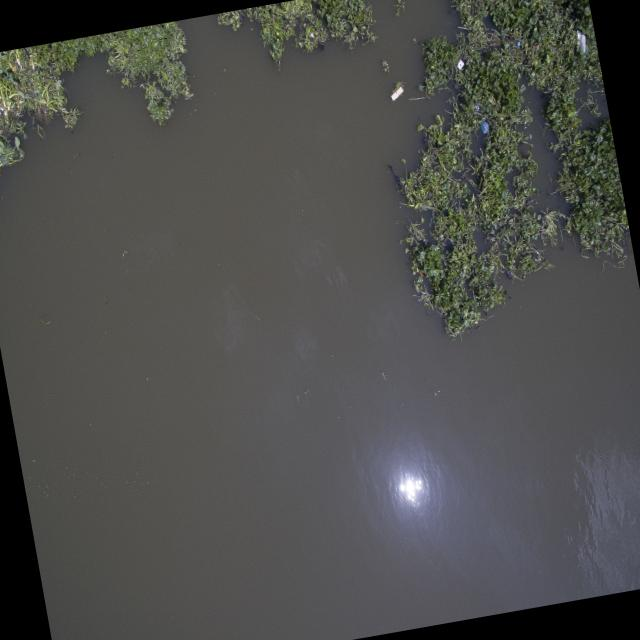Plastic: (574, 29, 588, 54), (390, 86, 405, 100), (455, 56, 465, 72), (479, 120, 490, 134)
